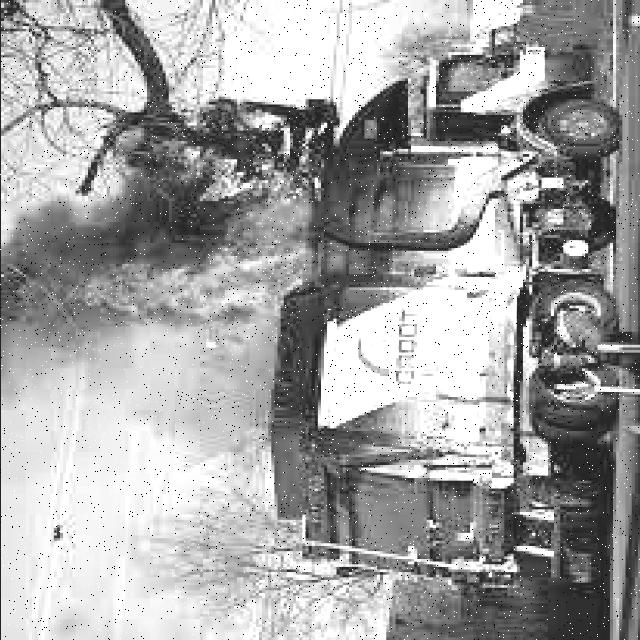api: (67, 82, 331, 325)
